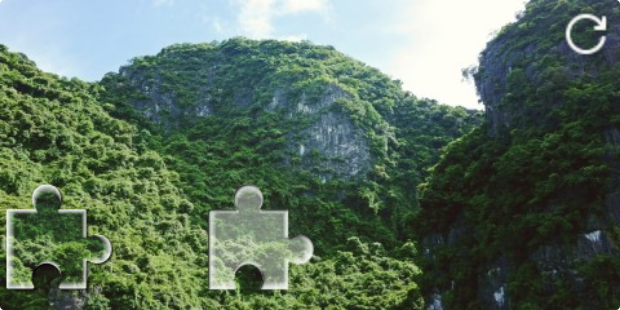target: (210, 185, 313, 288)
